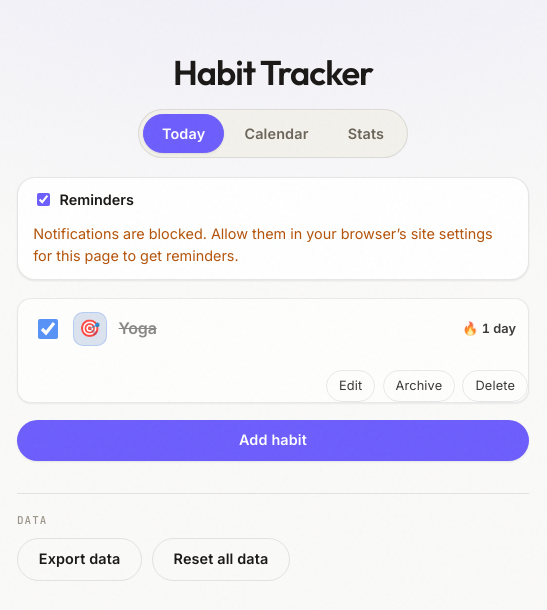
Scenario: App › archives a habit after confirmation, keeping its history
This screenshot has width=547, height=610.
Click the button with aria-label "Archive Yoga" at (419, 386), box [382,370,455,402]
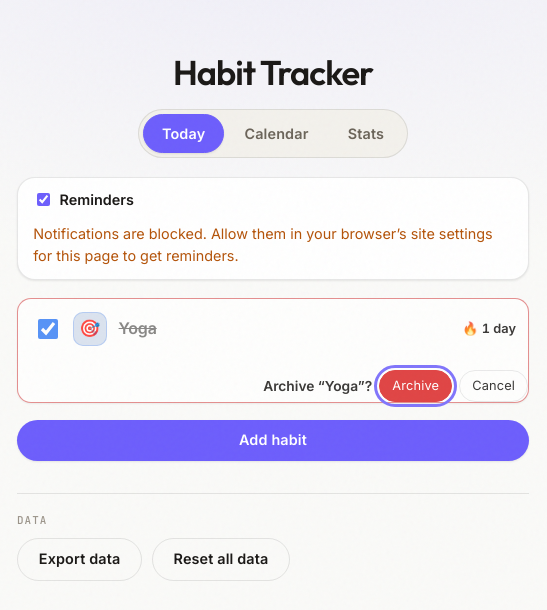
Result: the text "Archive “Yoga”?" is shown at [263,376,372,397]
Click the button with aria-label "Confirm archive Yoga" at (416, 386), box [379,370,452,402]
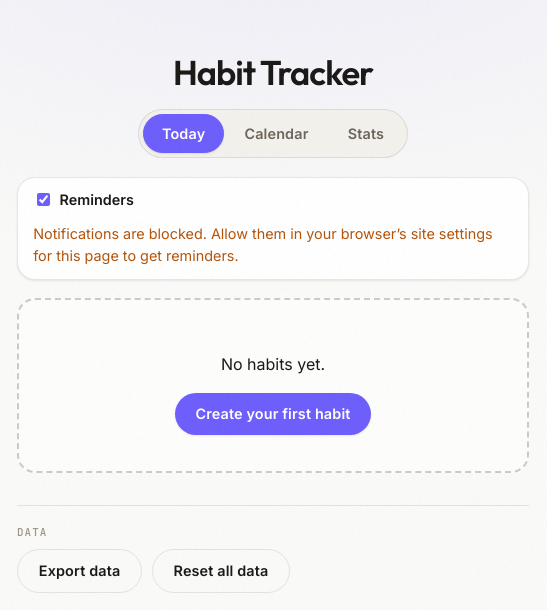
Result: the text "Yoga" is gone
Result: the button "Create your first habit" is shown at [175,393,371,435]
